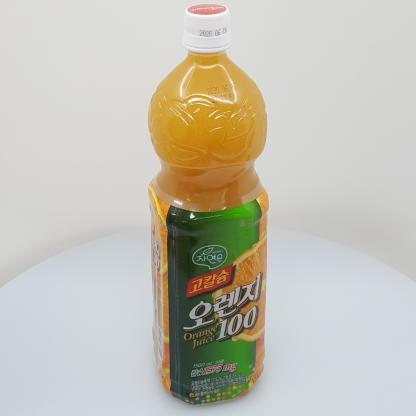--------1-5L: (147, 3, 269, 406)
